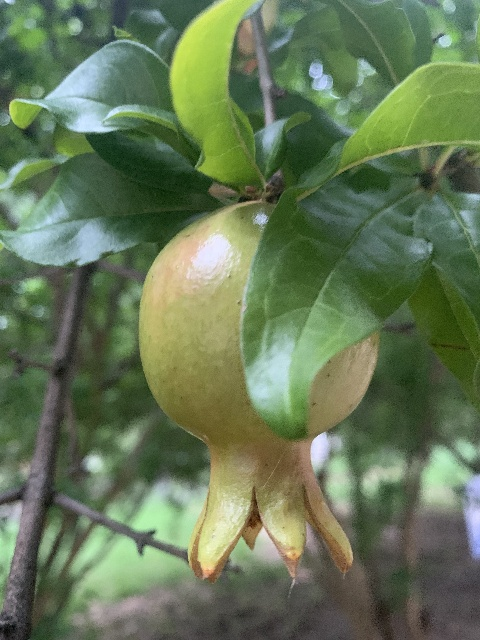mid-growth: (139, 201, 379, 581)
